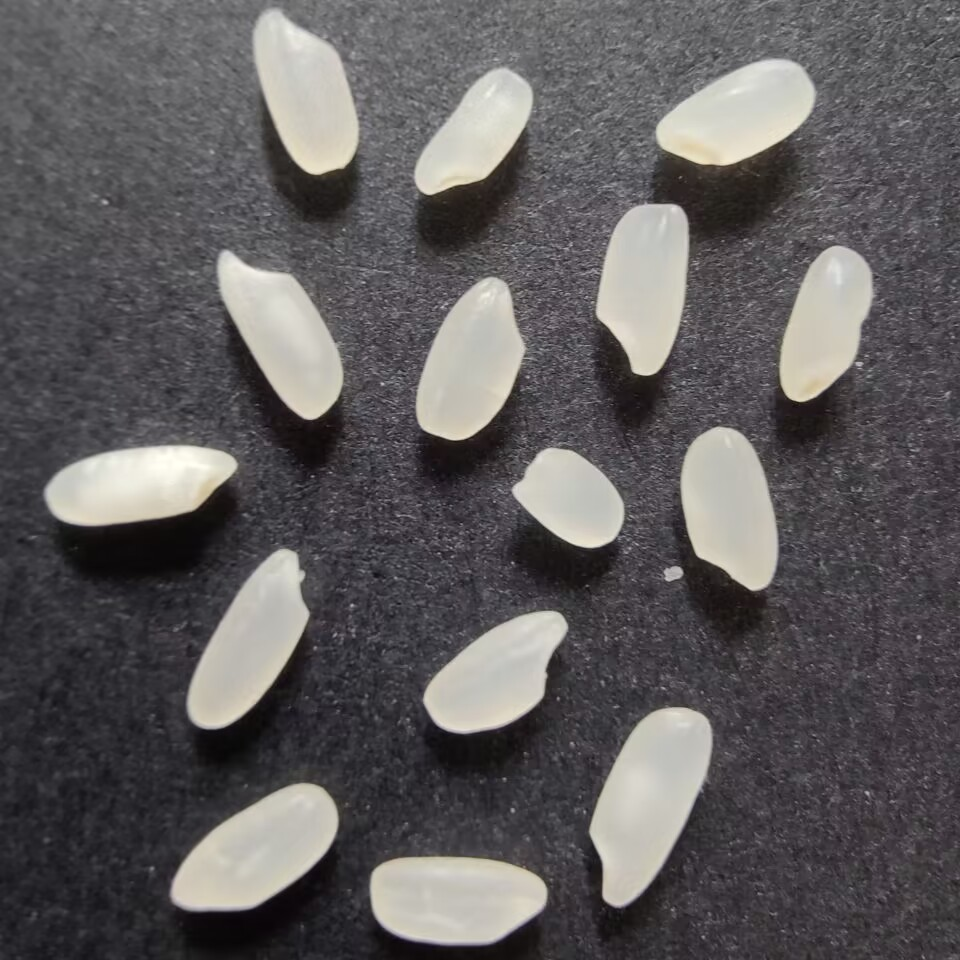broken: (511, 447, 625, 548)
rice: (582, 701, 719, 908), (166, 782, 342, 922), (182, 547, 314, 732), (213, 246, 349, 425), (409, 270, 529, 443), (249, 6, 366, 181), (417, 607, 567, 735), (649, 56, 817, 170), (360, 855, 553, 950), (679, 424, 784, 595), (591, 198, 690, 379), (37, 442, 240, 530), (409, 60, 535, 200), (776, 243, 876, 407)
